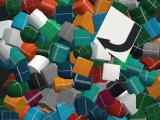Right: (93, 5, 142, 63)
